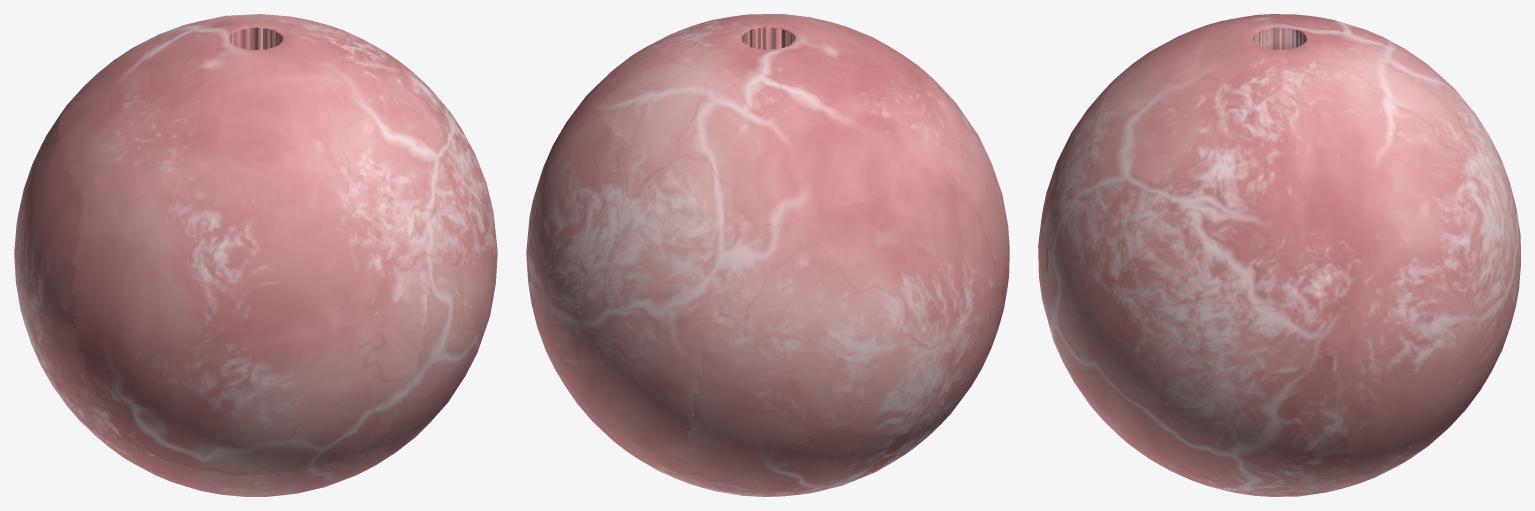
The model's file is rose-quartz-bead.glb.
The picture shows the model from 3 angles, left to right: view 1: azimuth 30°, elevation 25°; view 2: azimuth 150°, elevation 25°; view 3: azimuth 270°, elevation 25°; orthographic projection.
Visible parts, largest first — view 1: Bead_hi; view 2: Bead_hi; view 3: Bead_hi.
Boxes of the visible parts, left/top/right/bottom form: Bead_hi: left=14, top=14, right=497, bottom=496; Bead_hi: left=526, top=14, right=1009, bottom=496; Bead_hi: left=1038, top=14, right=1520, bottom=496.
Bounding box in the file's own units: 1 × 0.9939 × 0.9996.
Materials: 1 (1 with a texture image).
